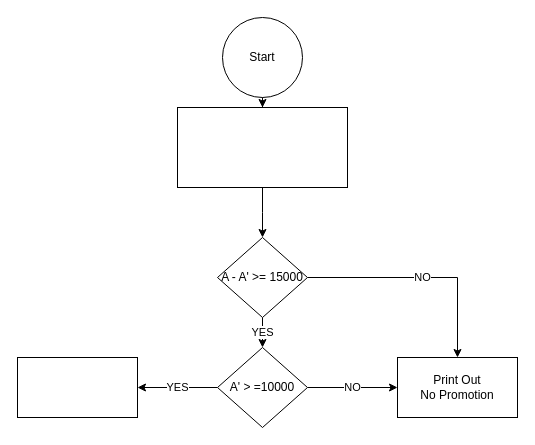
This 535x445 diagram has some shape labels left out. The shapes that lost their labels are listed below. From the top down, each one's centre as x and y in pixels, then its label:
At point 262,147: "Customer Number N Monthly Billing spending A, A'".
At point 77,387: "Print out Customer Number: N Earn 500$".
